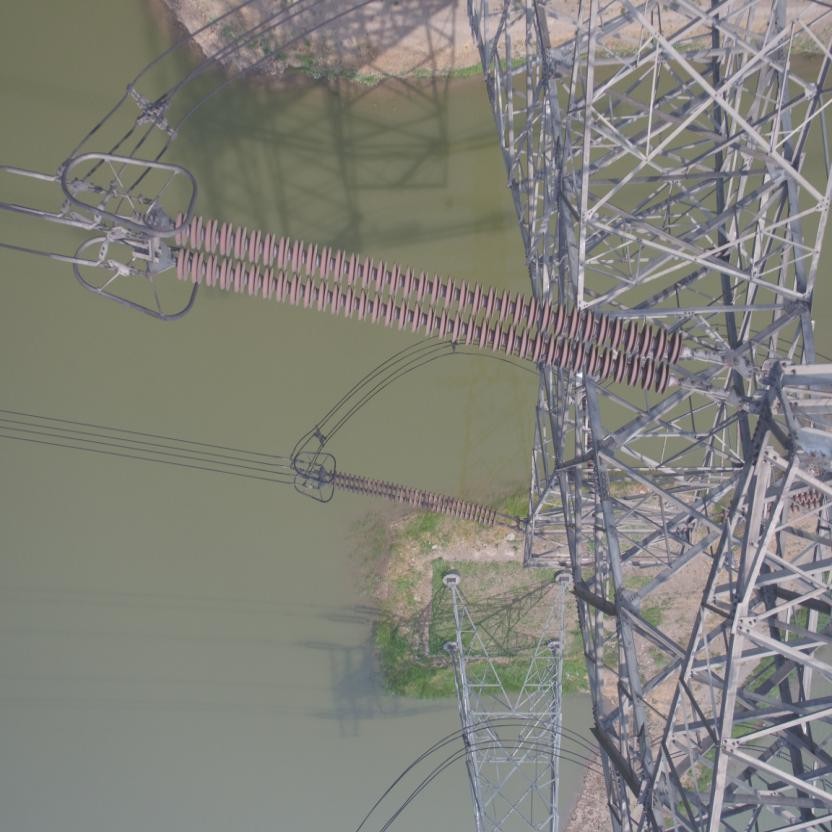insulator: (162, 210, 696, 402), (322, 470, 500, 533)
